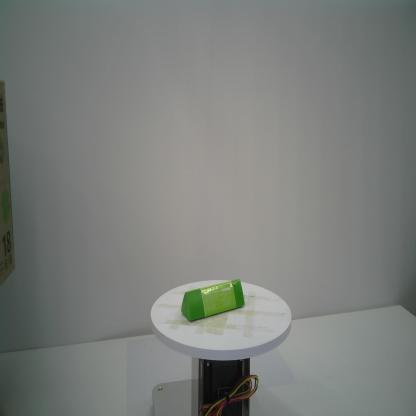Stationery: (180, 276, 246, 324)
